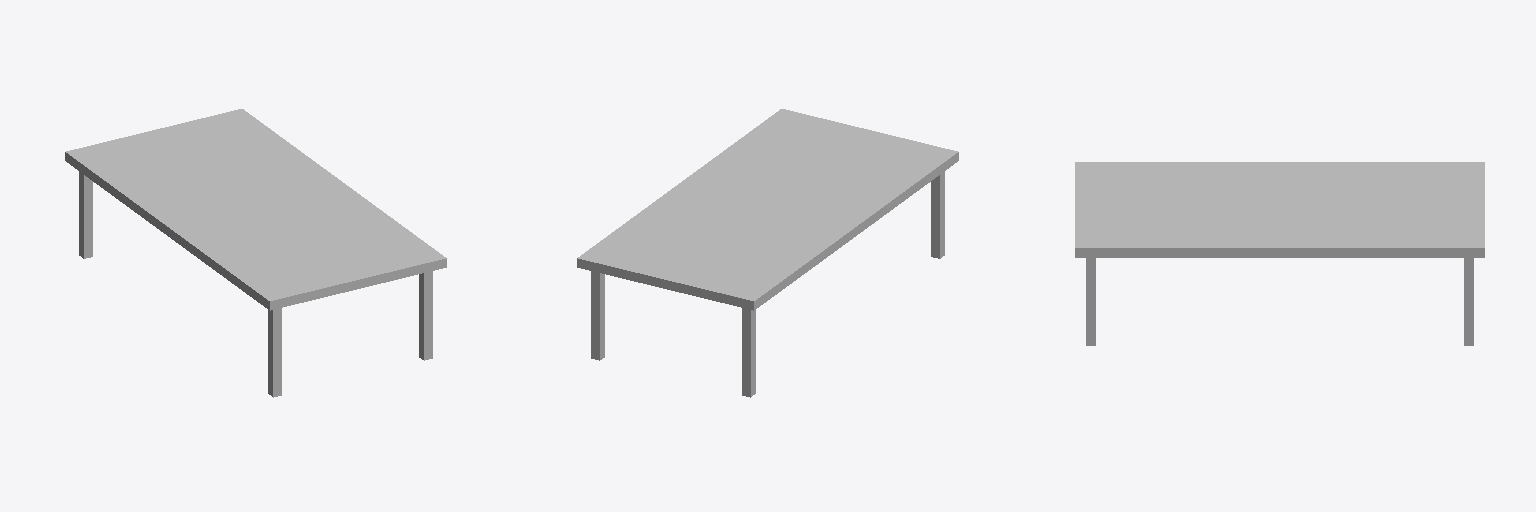
Rendered from assorted_props-01-wide_table.obj.
The picture shows the model from 3 angles: view 1: azimuth 30°, elevation 25°; view 2: azimuth 150°, elevation 25°; view 3: azimuth 270°, elevation 25°; orthographic projection.
Parts seen in each view (by area): view 1: Cube.006_Cube.001, Cube.007_Cube.003; view 2: Cube.006_Cube.001, Cube.007_Cube.003; view 3: Cube.006_Cube.001, Cube.007_Cube.003.
Boxes of the visible parts, x1=… form: Cube.006_Cube.001: x1=65, y1=109, x2=446, y2=310; Cube.007_Cube.003: x1=79, y1=172, x2=432, y2=397; Cube.006_Cube.001: x1=577, y1=109, x2=958, y2=310; Cube.007_Cube.003: x1=591, y1=172, x2=944, y2=397; Cube.006_Cube.001: x1=1075, y1=162, x2=1484, y2=257; Cube.007_Cube.003: x1=1086, y1=258, x2=1473, y2=345.
Bounding box in the file's own units: 2 × 1.1 × 4.